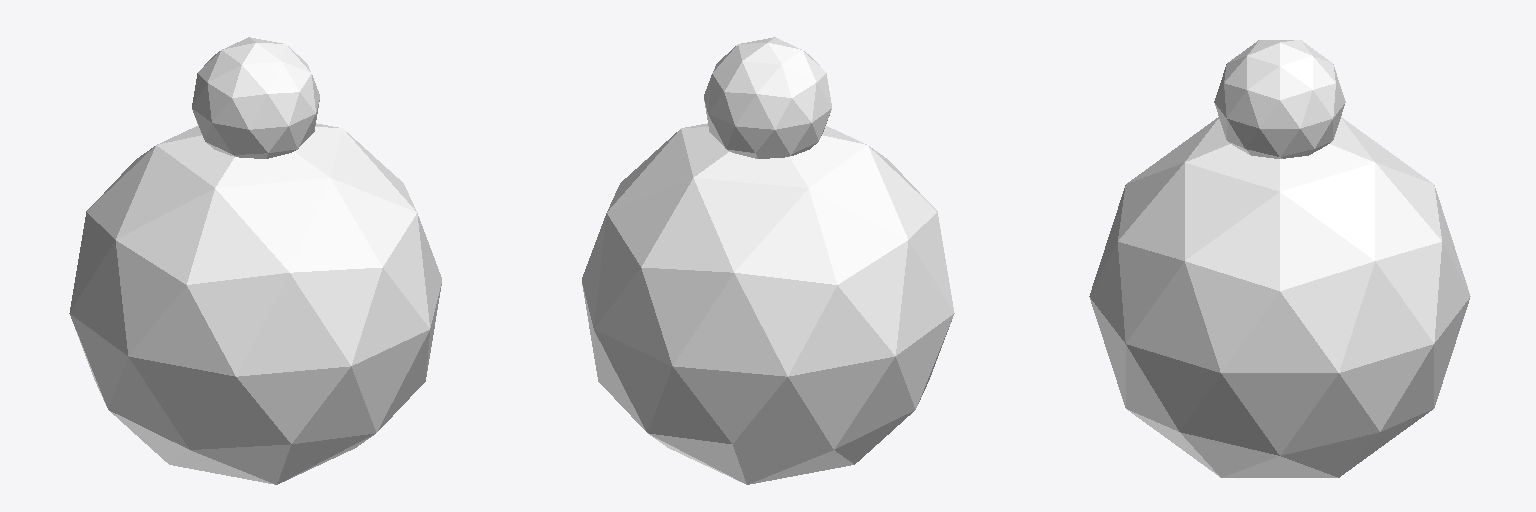
3 renders of one model, left to right at view 1: azimuth 30°, elevation 25°; view 2: azimuth 150°, elevation 25°; view 3: azimuth 270°, elevation 25°, orthographic.
Parts seen in each view (by area): view 1: Icosphere; view 2: Icosphere; view 3: Icosphere.
Boxes of the visible parts, box(x1,y1,x2,y2) form: Icosphere: box(69, 37, 441, 484); Icosphere: box(582, 37, 954, 484); Icosphere: box(1089, 40, 1470, 477).
Size of the model in its own units: 0.267 by 0.3465 by 0.2807.
1 materials, 1 textured.